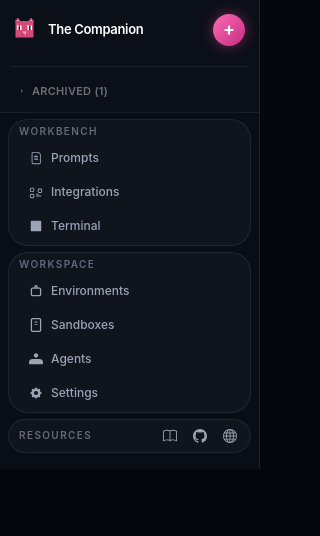
Test: Sidebar › toggle archived shows/hides archived sessions
Expected: the text "archived-model" is not shown
Note: Click the archived toggle button
Click the button "Archived (1)": {"x": 130, "y": 91} [10,79,249,104]
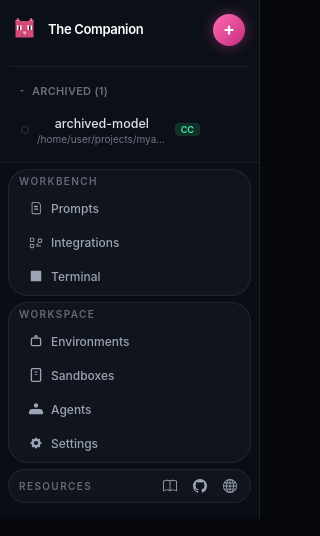
Now the text "archived-model" is shown, box [55,116,149,130]
